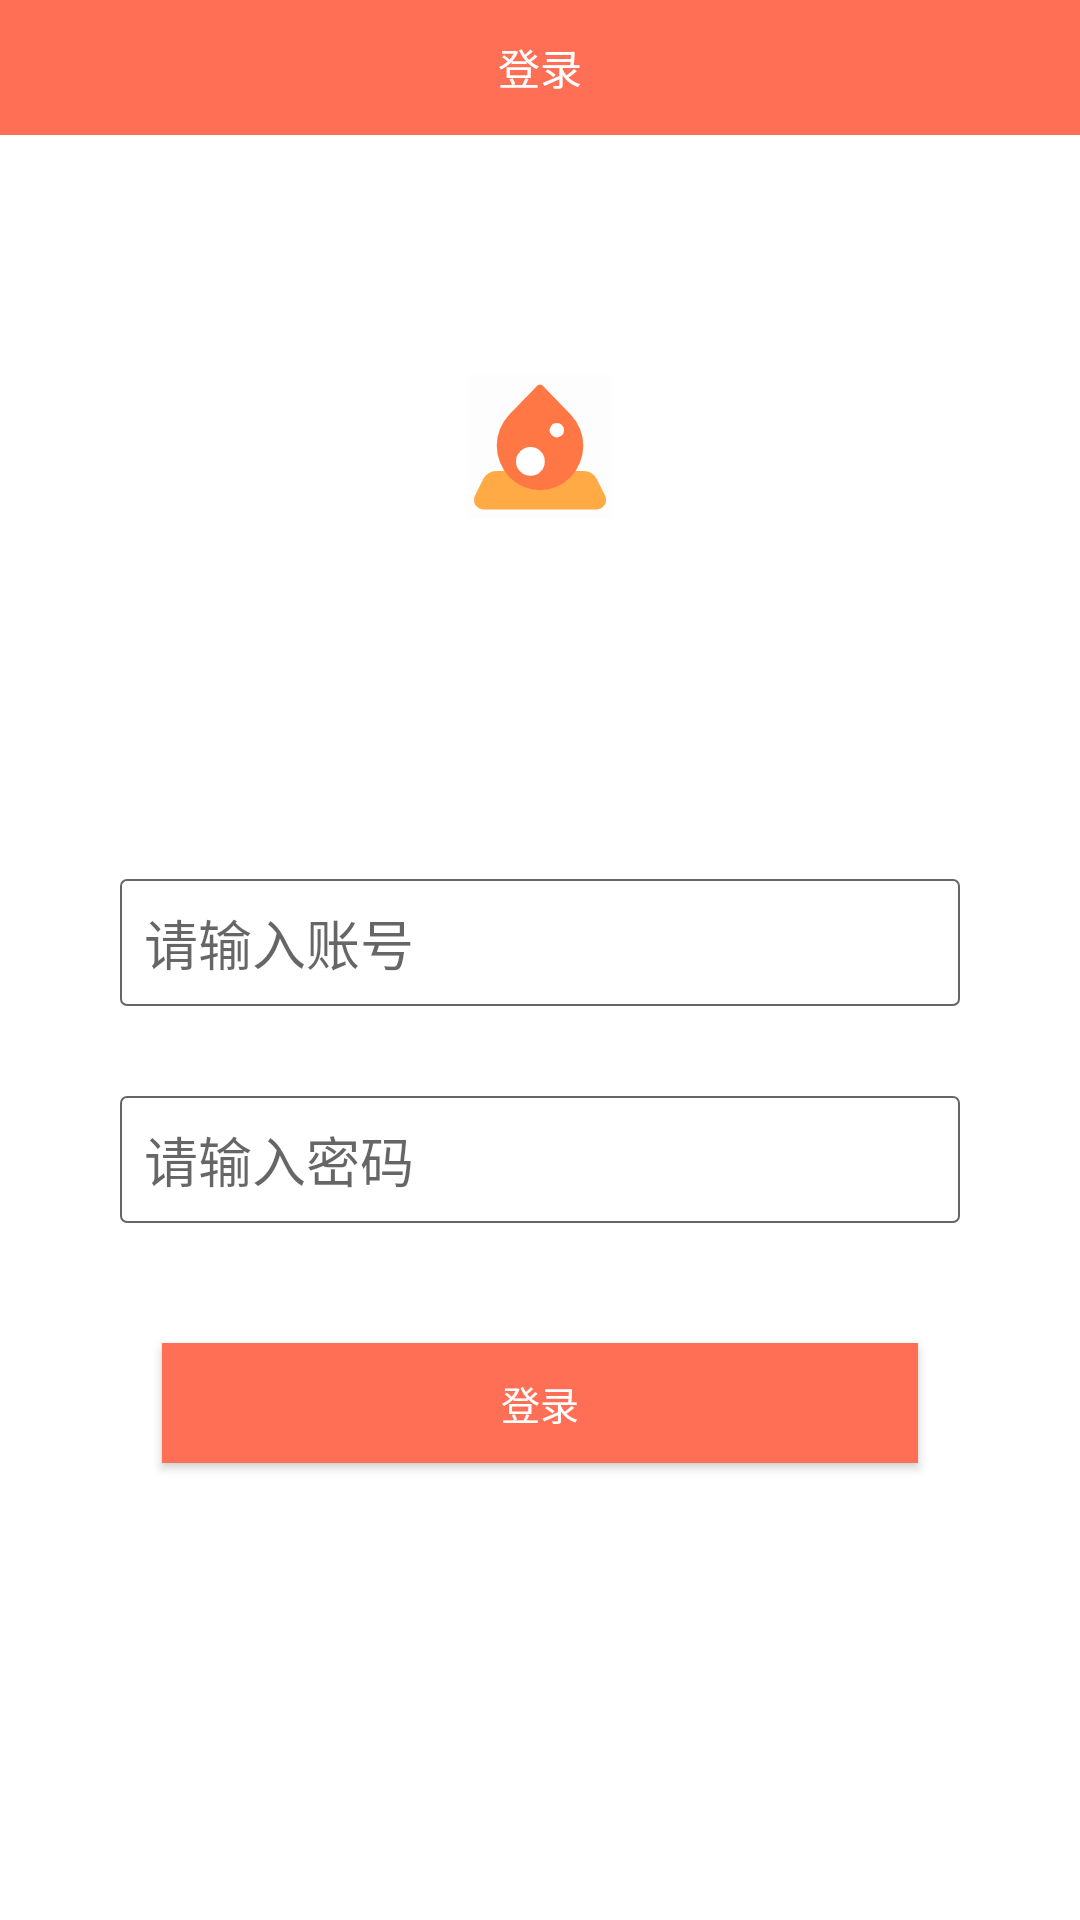

Screen size 1080x1920. Icon name, then its box in pixels as BBox(x1, y1, x2, y2):
app: BBox(474, 384, 606, 510)
